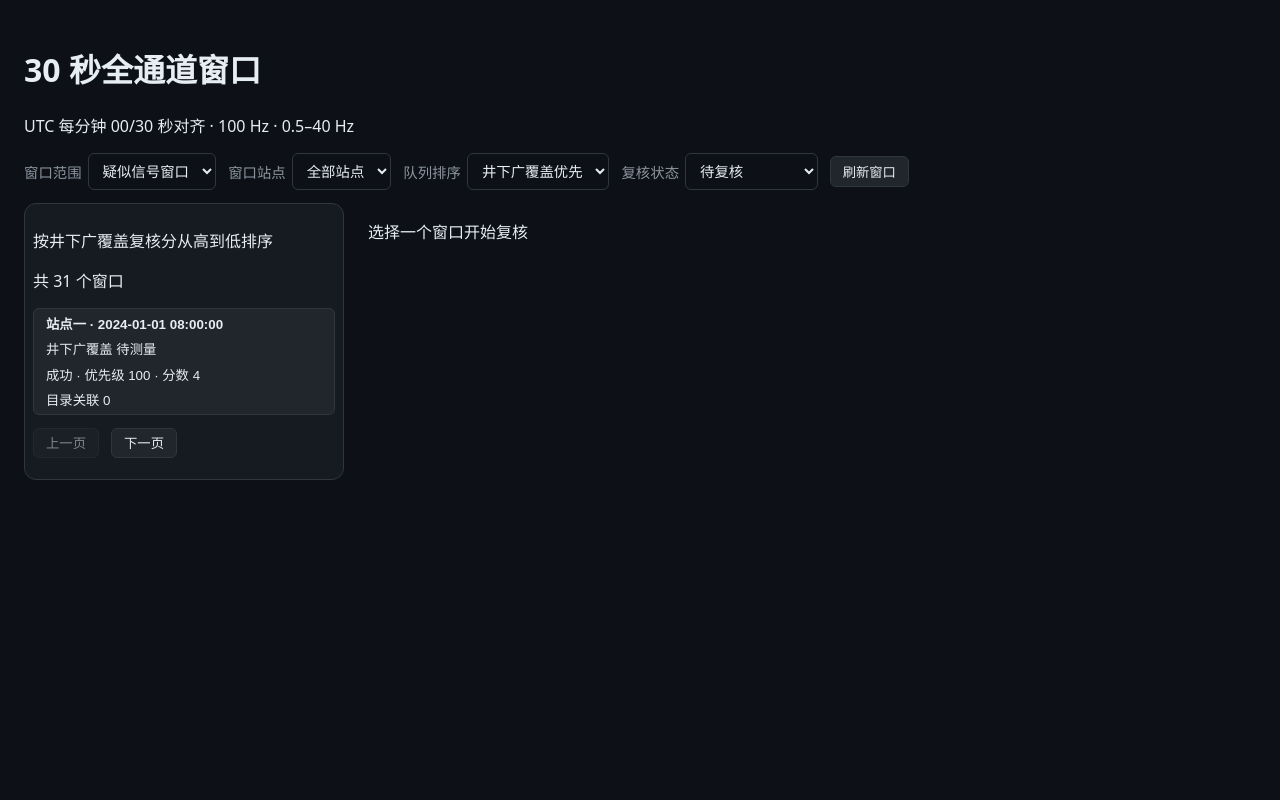
places review immediately after images and keeps only the four summary metrics
The width and height of the screenshot is (1280, 800).
Click the button "站点一" at (66,324), box [33, 308, 335, 415]
(page scrolled)
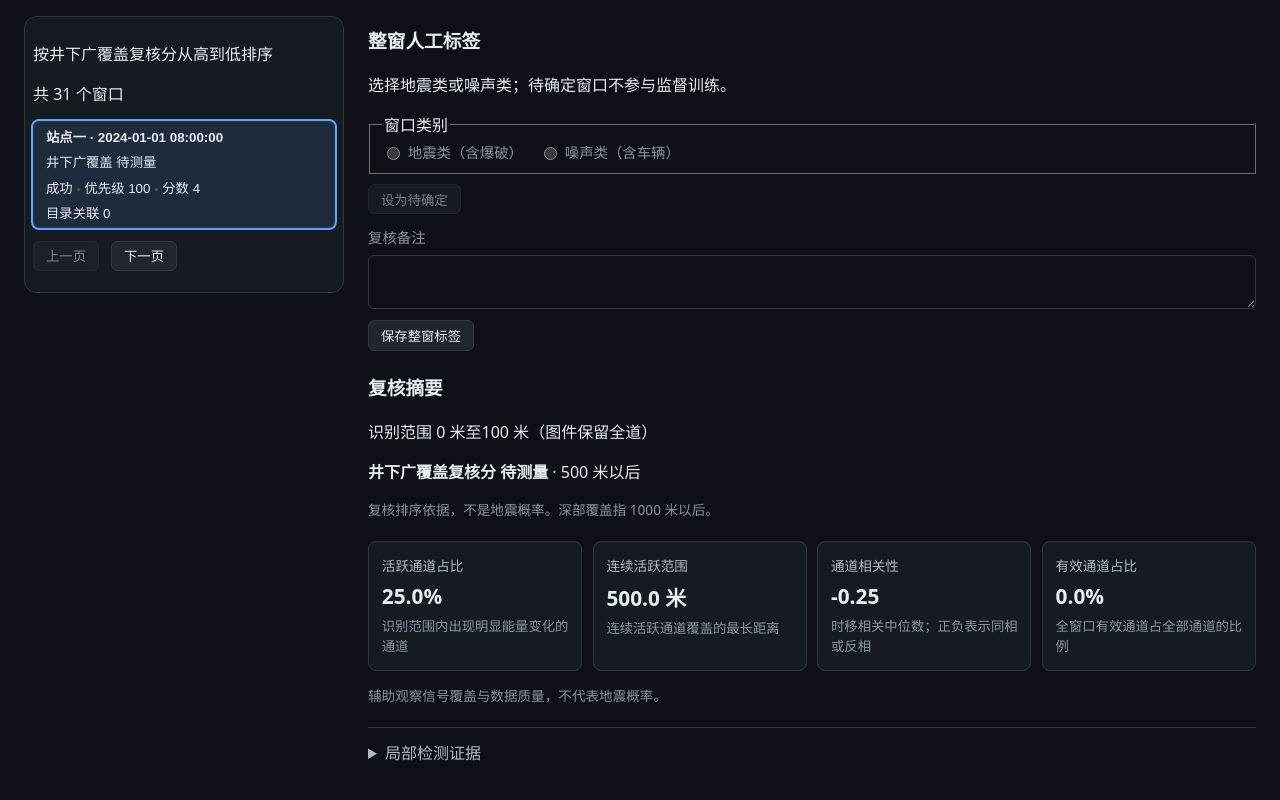
Expected: the element "复核摘要" shows "25.0%", [382, 582, 442, 610]
Expected: the element "复核摘要" shows "0.0%", [1056, 582, 1104, 610]
